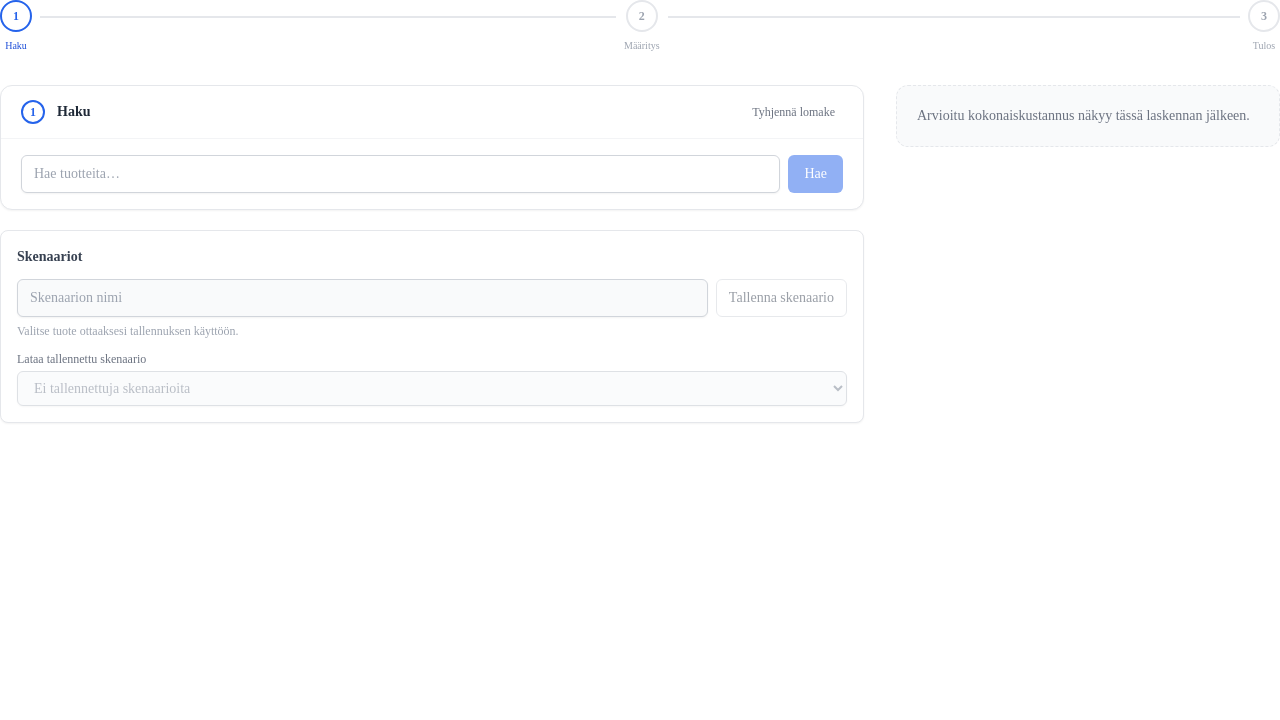
Test case: CalculatorView price-before-calculation (task 3.2) › renders the lowest observed price on rows with offers and nothing on offer-less rows
This screenshot has width=1280, height=720.
Type "renat" into the field with placeholder "Hae tuotteita…".
click(401, 174); type("renat")  # box left=21, top=155, right=780, bottom=193
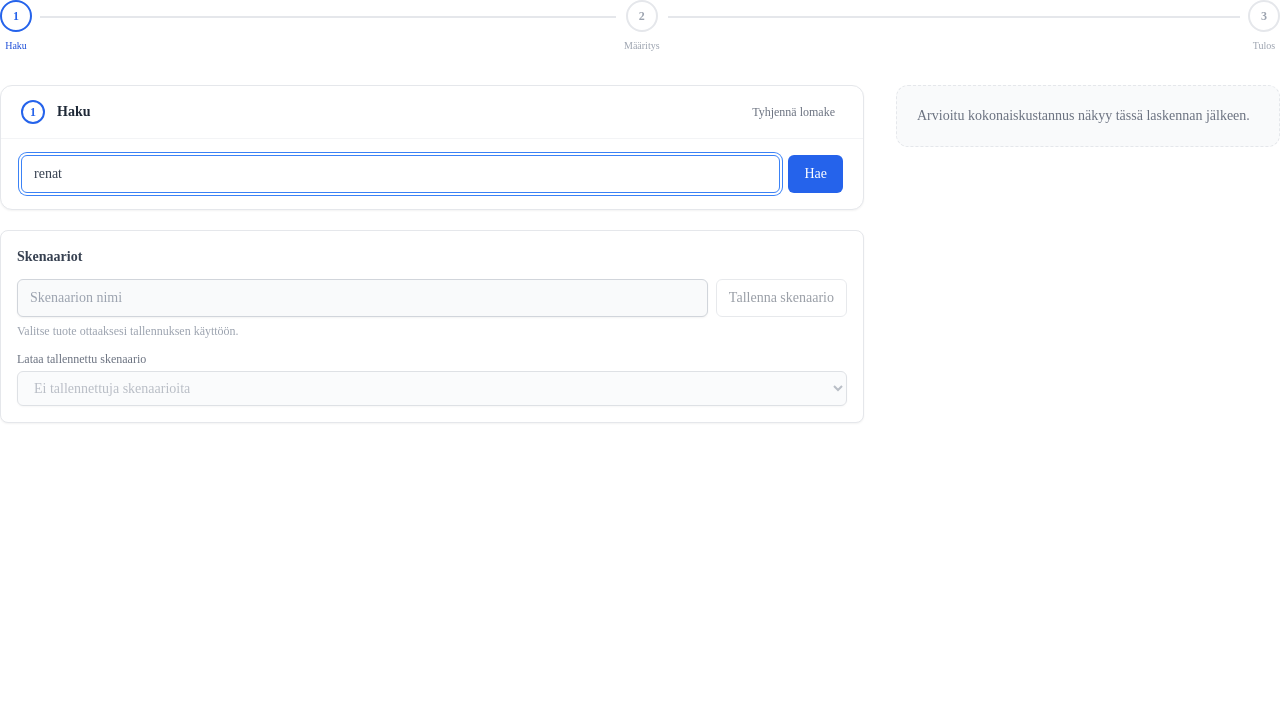
Click the button "Hae".
click(816, 174)  # box left=788, top=155, right=843, bottom=193
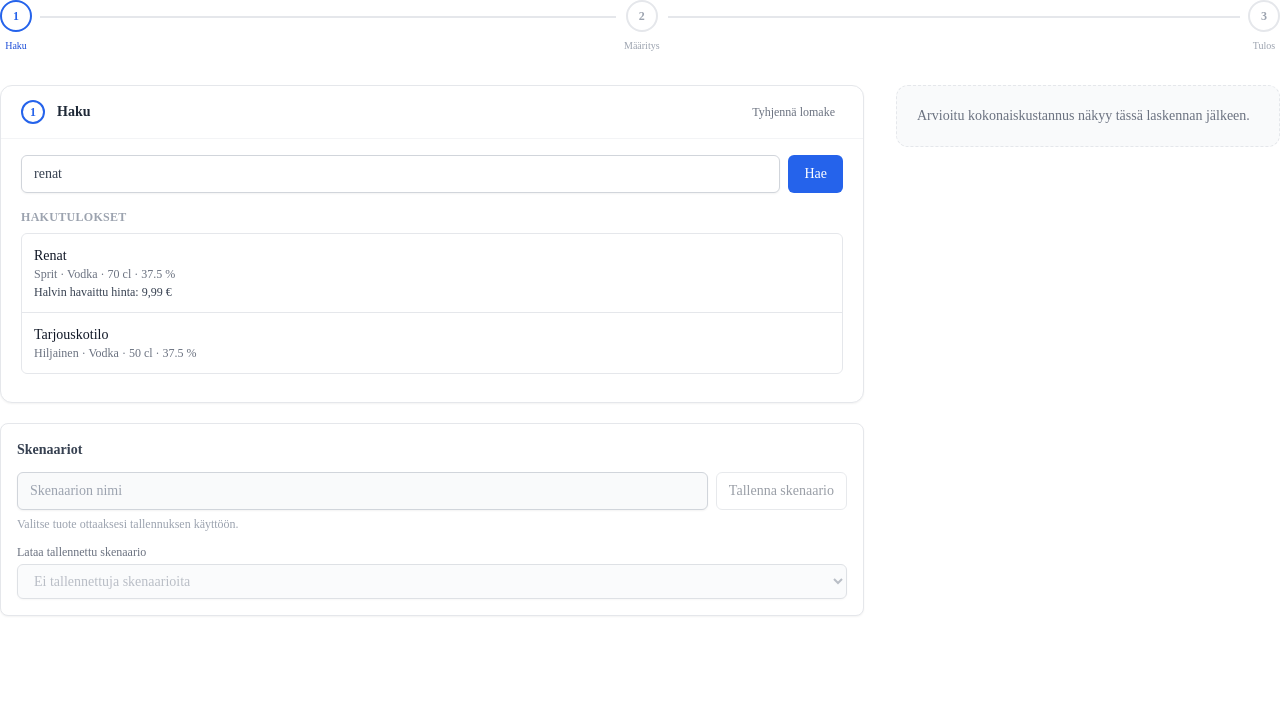
Check: the text "Tarjouskotilo" does not show "€"
Check: the text with test id "row-lowest-price" reads "Halvin havaittu hinta: 9,99 €", box left=34, top=285, right=172, bottom=299
